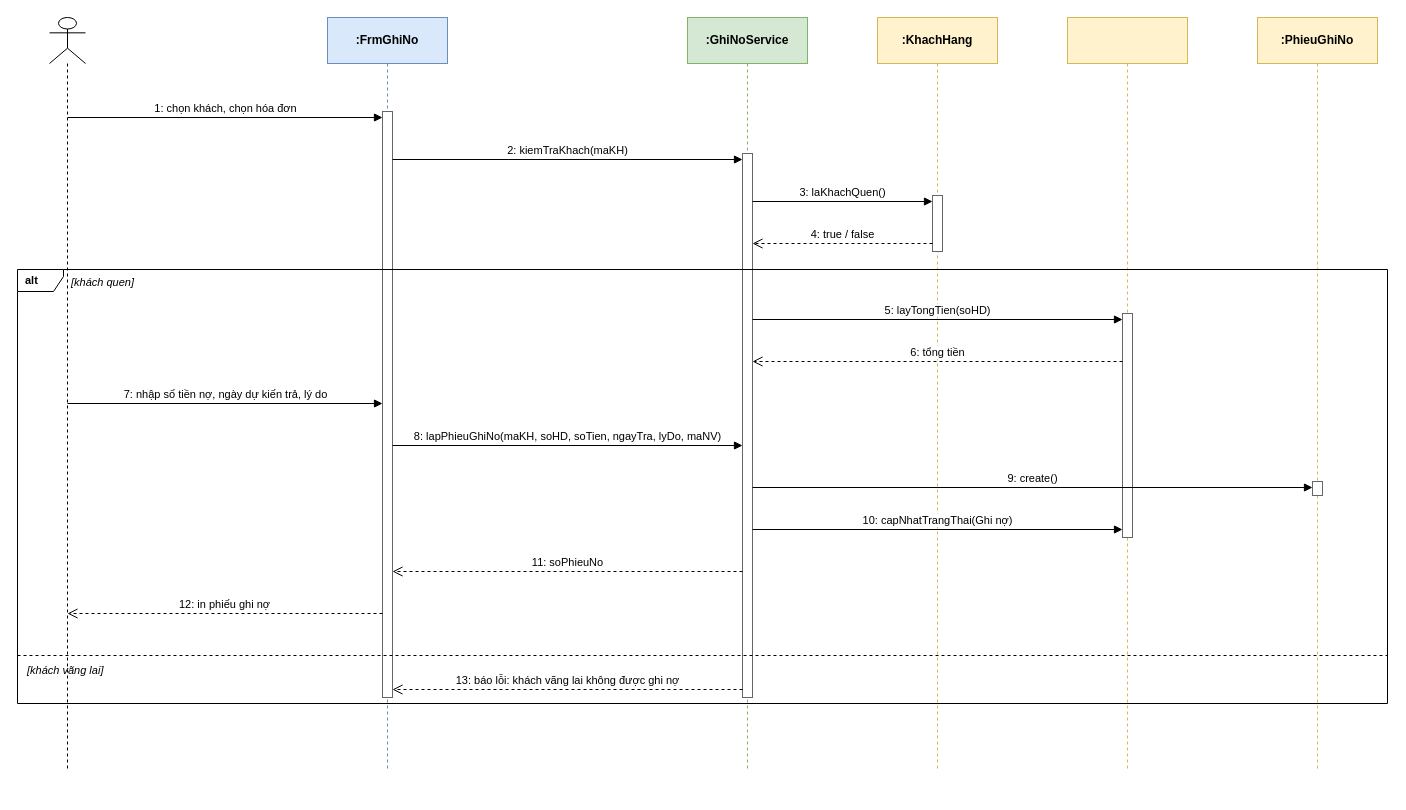
Some shapes in this 1406 by 810 pixel diagram are drawn without their labels. Here are the shapes that lost their labels. From the top down, the box of each, then its label:
(48, 16, 86, 772): NV bán hàng
(1066, 16, 1188, 772): :HoaDon
